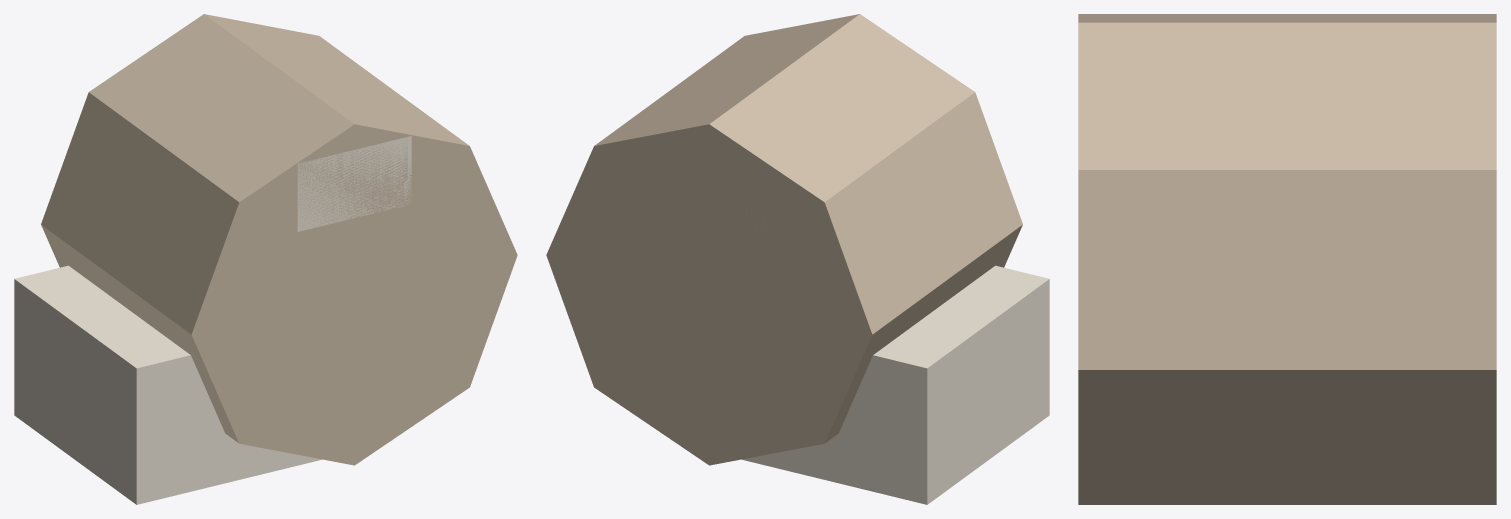
Rendered from prop-nut-blank.fbx.
3 views of the same model, side by side, from view 1: azimuth 30°, elevation 25°; view 2: azimuth 150°, elevation 25°; view 3: azimuth 270°, elevation 25° (orthographic). The views are drawn at different scales.
Parts seen in each view (by area): view 1: prop-nut-blank; view 2: prop-nut-blank; view 3: prop-nut-blank.
Part boxes in pixels (<box>): prop-nut-blank: <box>14,14,517,504</box>; prop-nut-blank: <box>546,14,1049,504</box>; prop-nut-blank: <box>1078,14,1496,504</box>.
Bounding box in the file's own units: 4.5 × 4 × 3.2.
